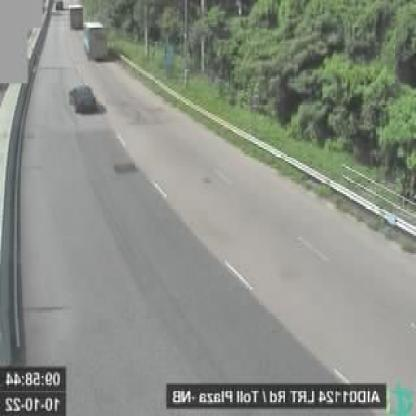Car: (69, 86, 98, 111)
Truck: (83, 18, 107, 60), (68, 3, 83, 28)
